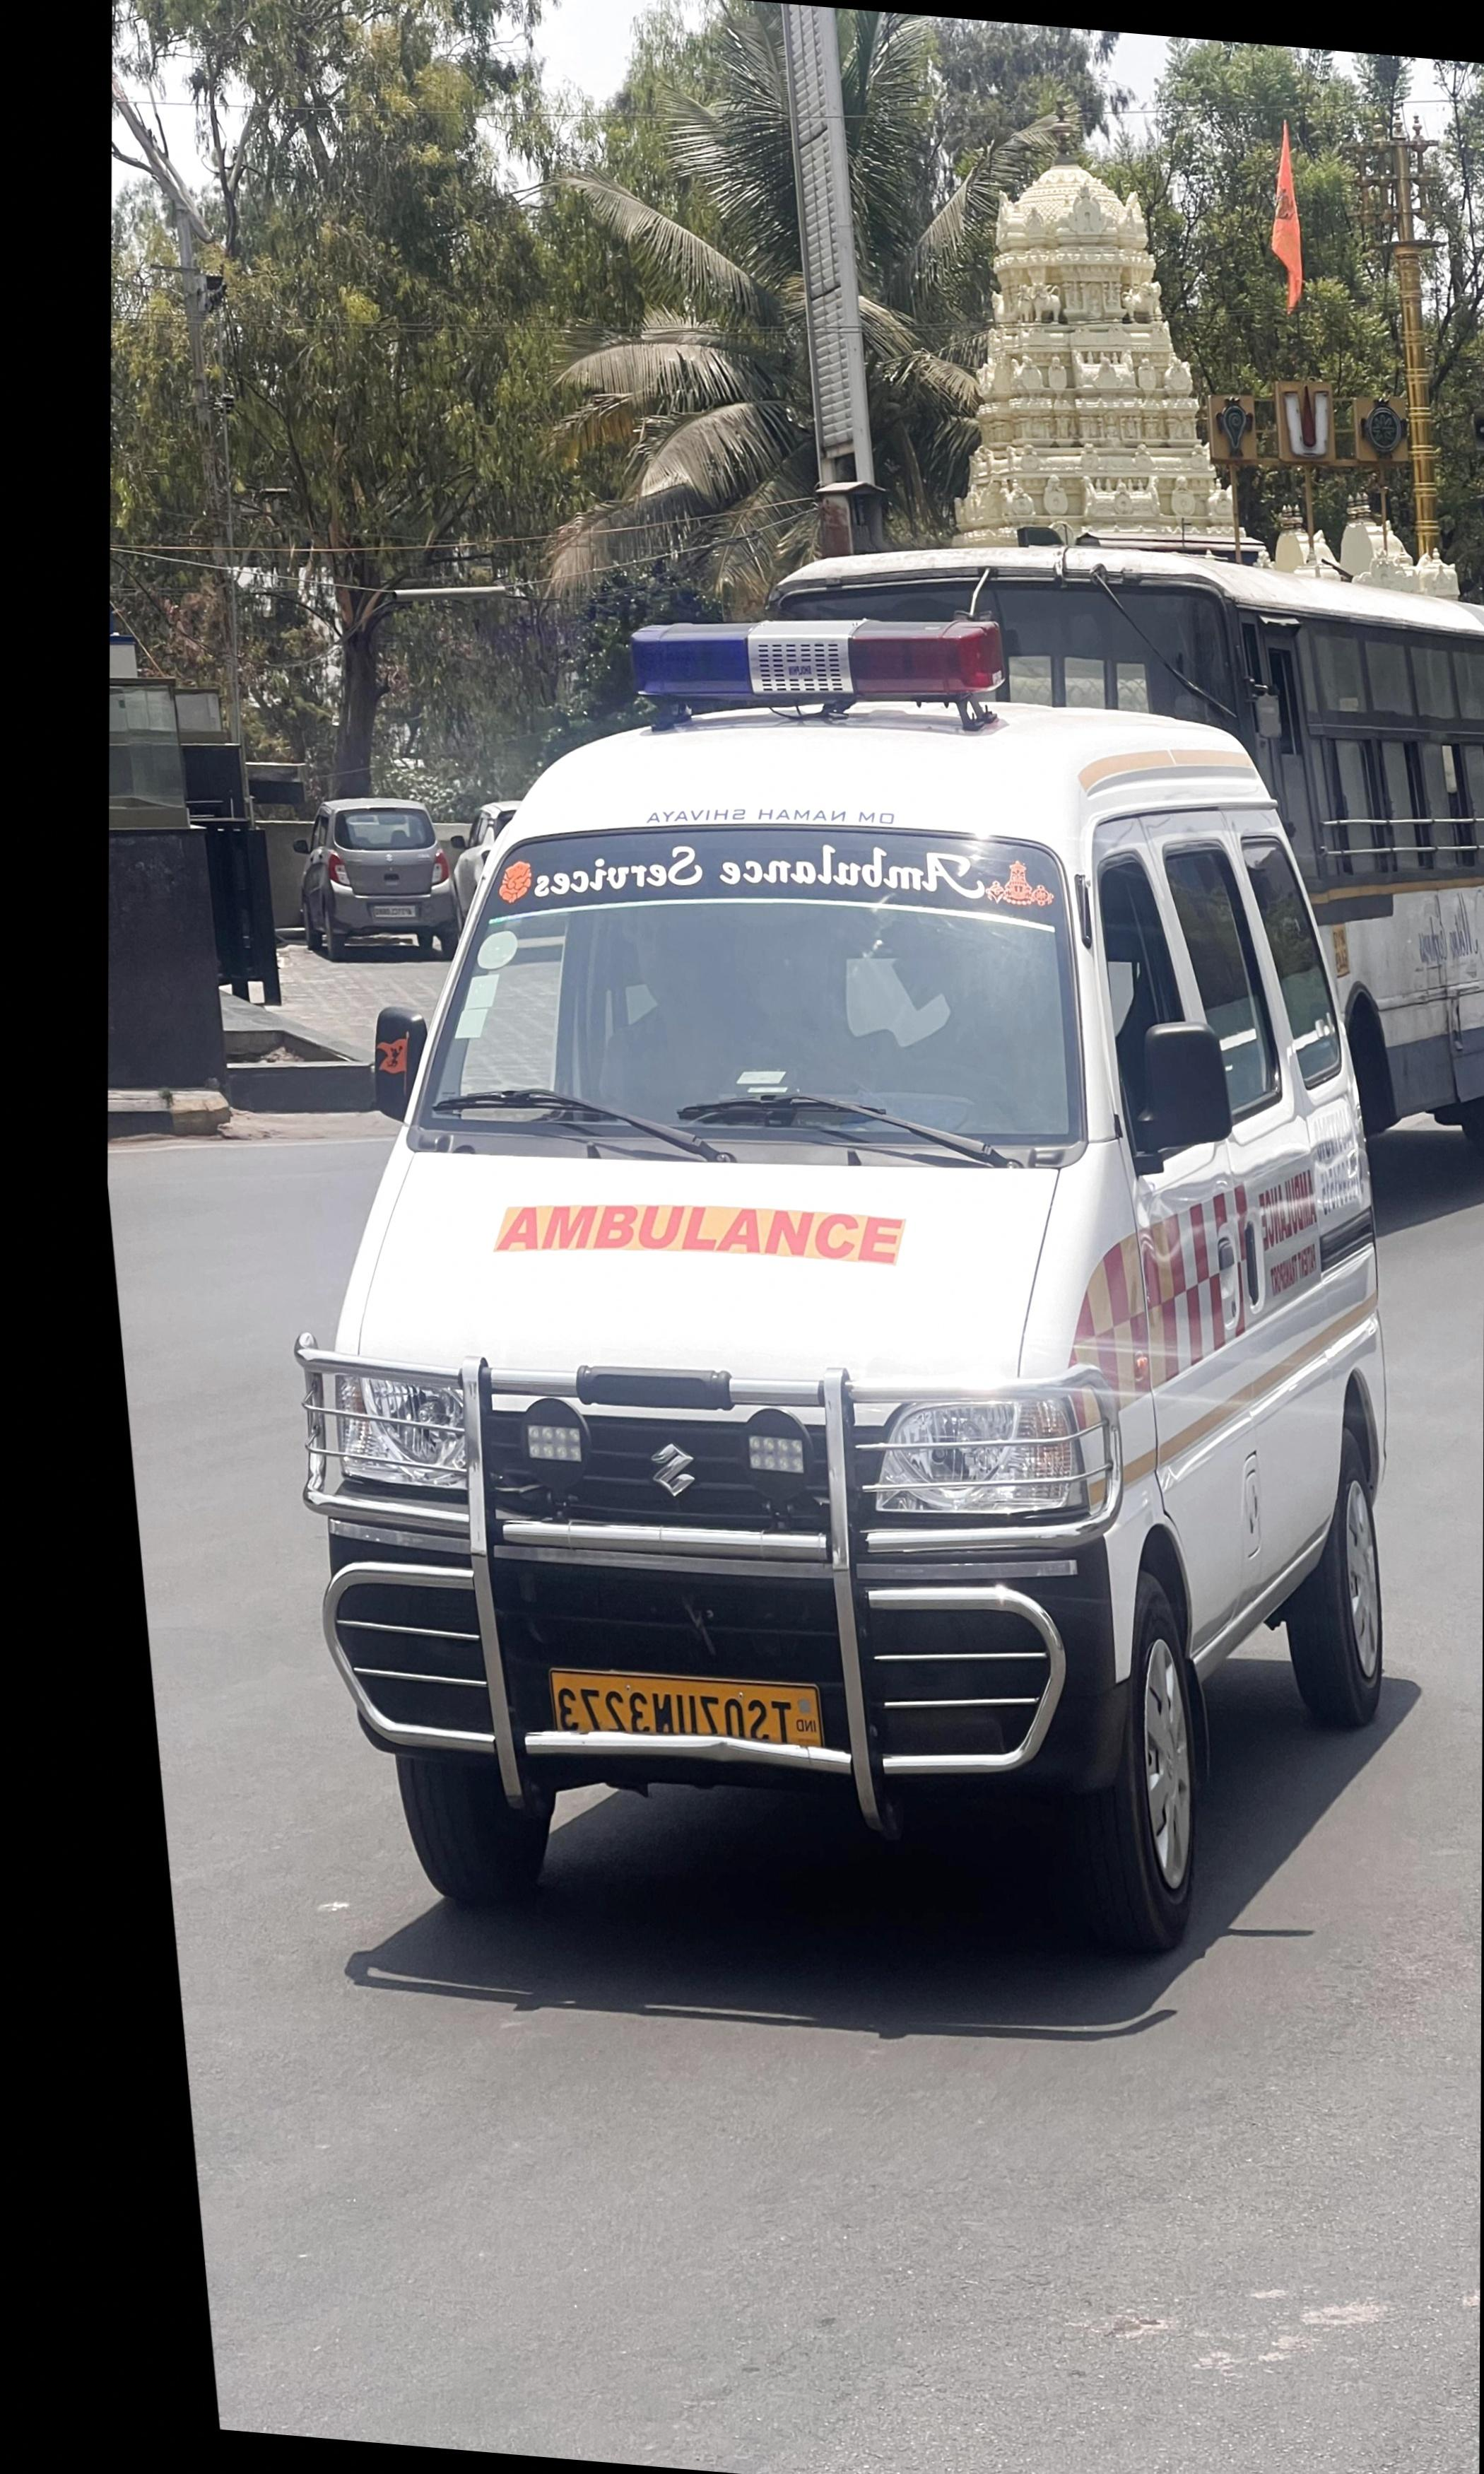ambulance: (316, 618, 1385, 1951)
